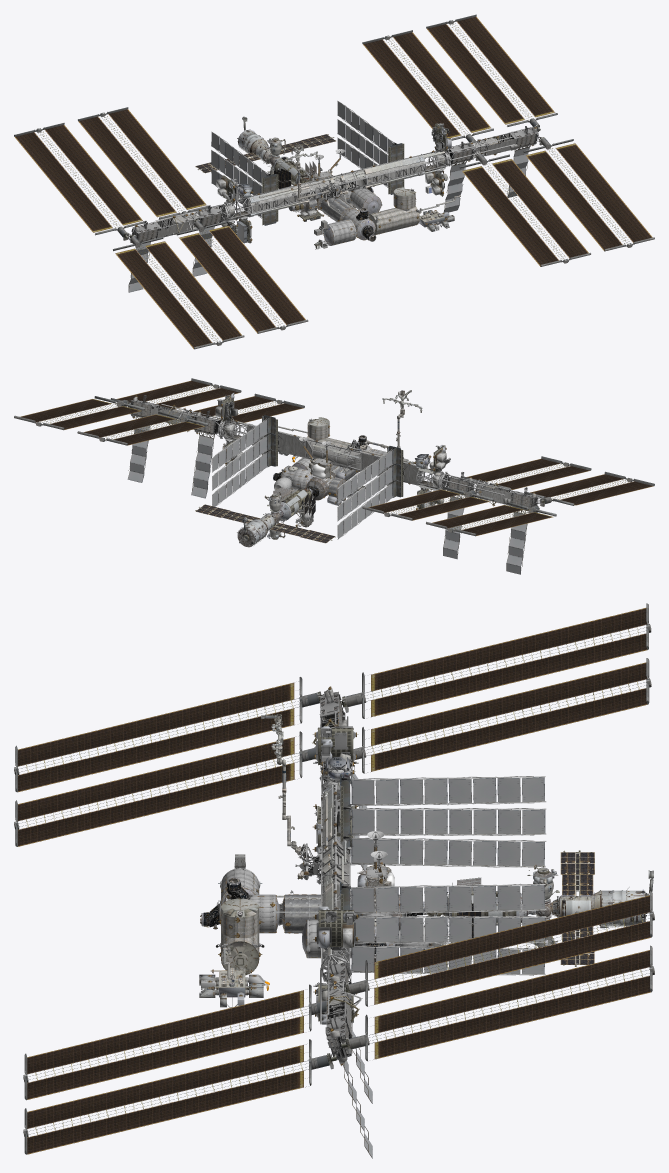
The model's file is ISS_stationary.glb.
3 views of the same model, one above another, from view 1: azimuth 30°, elevation 25°; view 2: azimuth 150°, elevation 25°; view 3: azimuth 270°, elevation 25° (orthographic). The views are drawn at different scales.
Visible parts, largest first — view 1: 08 P6 Truss, 32 S6 Truss, 23 S4 Truss_02, 23 S4 Truss_01, 20 P4 Truss_01, 20 P4 Truss_02, 17 P1 Truss, 16 S1 Truss, 20 P4 Truss, 14 S0 Truss, 30 Kibo Space Laboratory (PSM) Pressurized Module, 23 S4 Truss (+6 smaller); view 2: 32 S6 Truss, 08 P6 Truss, 17 P1 Truss, 16 S1 Truss, 20 P4 Truss_02, 23 S4 Truss_02, 23 S4 Truss_01, 20 P4 Truss, 20 P4 Truss_01, 23 S4 Truss, 14 S0 Truss, 05 Zvezda (SM) Service Module (+10 smaller); view 3: 08 P6 Truss, 32 S6 Truss, 16 S1 Truss, 17 P1 Truss, 20 P4 Truss_01, 20 P4 Truss_02, 23 S4 Truss_02, 23 S4 Truss_01, 05 Zvezda (SM) Service Module, 43 Express Logistics Carrier (ELC) 3, 14 S0 Truss, 33 Kibo Space Laboratory Exposed Platform (+8 smaller).
Boxes of the visible parts, box(x1,y1,x2,y2) form: 08 P6 Truss: box(426, 14, 654, 251); 32 S6 Truss: box(14, 122, 244, 349); 23 S4 Truss_02: box(78, 107, 208, 219); 23 S4 Truss_01: box(176, 220, 308, 333); 20 P4 Truss_01: box(459, 154, 590, 266); 20 P4 Truss_02: box(362, 30, 493, 142); 17 P1 Truss: box(337, 100, 425, 194); 16 S1 Truss: box(211, 131, 310, 225); 20 P4 Truss: box(443, 137, 514, 212); 14 S0 Truss: box(306, 169, 366, 216); 30 Kibo Space Laboratory (PSM) Pressurized Module: box(368, 206, 420, 234); 23 S4 Truss: box(155, 204, 228, 276); 32 S6 Truss: box(426, 471, 654, 574); 08 P6 Truss: box(14, 378, 241, 482); 17 P1 Truss: box(212, 415, 305, 506); 16 S1 Truss: box(337, 446, 423, 539); 20 P4 Truss_02: box(77, 411, 208, 445); 23 S4 Truss_02: box(362, 486, 493, 520); 23 S4 Truss_01: box(460, 456, 591, 489); 20 P4 Truss: box(161, 404, 225, 498); 20 P4 Truss_01: box(190, 393, 304, 425); 23 S4 Truss: box(440, 471, 508, 559); 14 S0 Truss: box(305, 439, 361, 472); 05 Zvezda (SM) Service Module: box(237, 511, 284, 547); 08 P6 Truss: box(23, 945, 654, 1158); 32 S6 Truss: box(14, 603, 651, 809); 16 S1 Truss: box(321, 774, 546, 867); 17 P1 Truss: box(321, 882, 546, 975); 20 P4 Truss_01: box(23, 984, 326, 1100); 20 P4 Truss_02: box(348, 891, 654, 1006); 23 S4 Truss_02: box(353, 658, 651, 773); 23 S4 Truss_01: box(14, 731, 316, 846); 05 Zvezda (SM) Service Module: box(533, 870, 653, 928); 43 Express Logistics Carrier (ELC) 3: box(313, 906, 359, 951); 14 S0 Truss: box(273, 834, 351, 912); 33 Kibo Space Laboratory Exposed Platform: box(199, 968, 263, 1007).
Bounding box in the file's own units: 112 × 30.36 × 76.48.
Materials: 48 (29 with a texture image).
